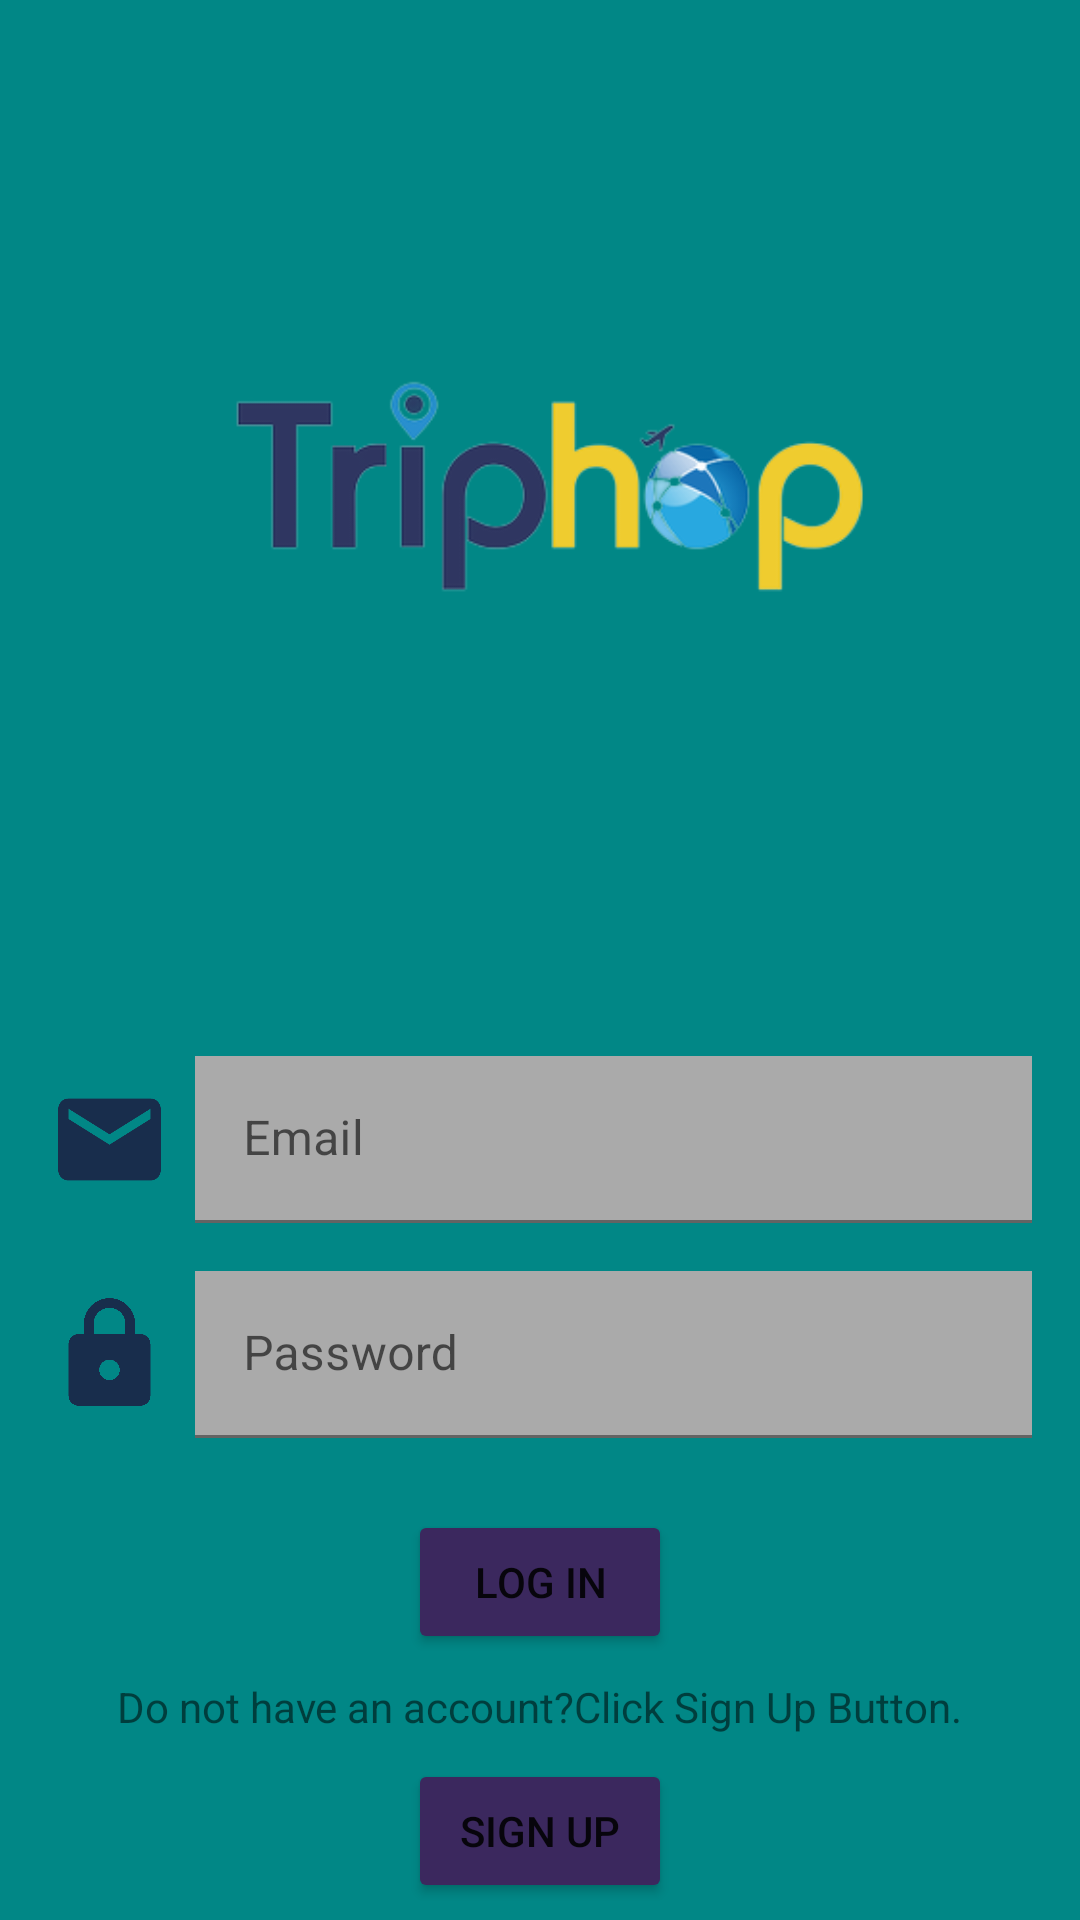

Icon click points for this 1080*1920 phone screenshot, format point (x, y):
lock: point (109, 1352)
